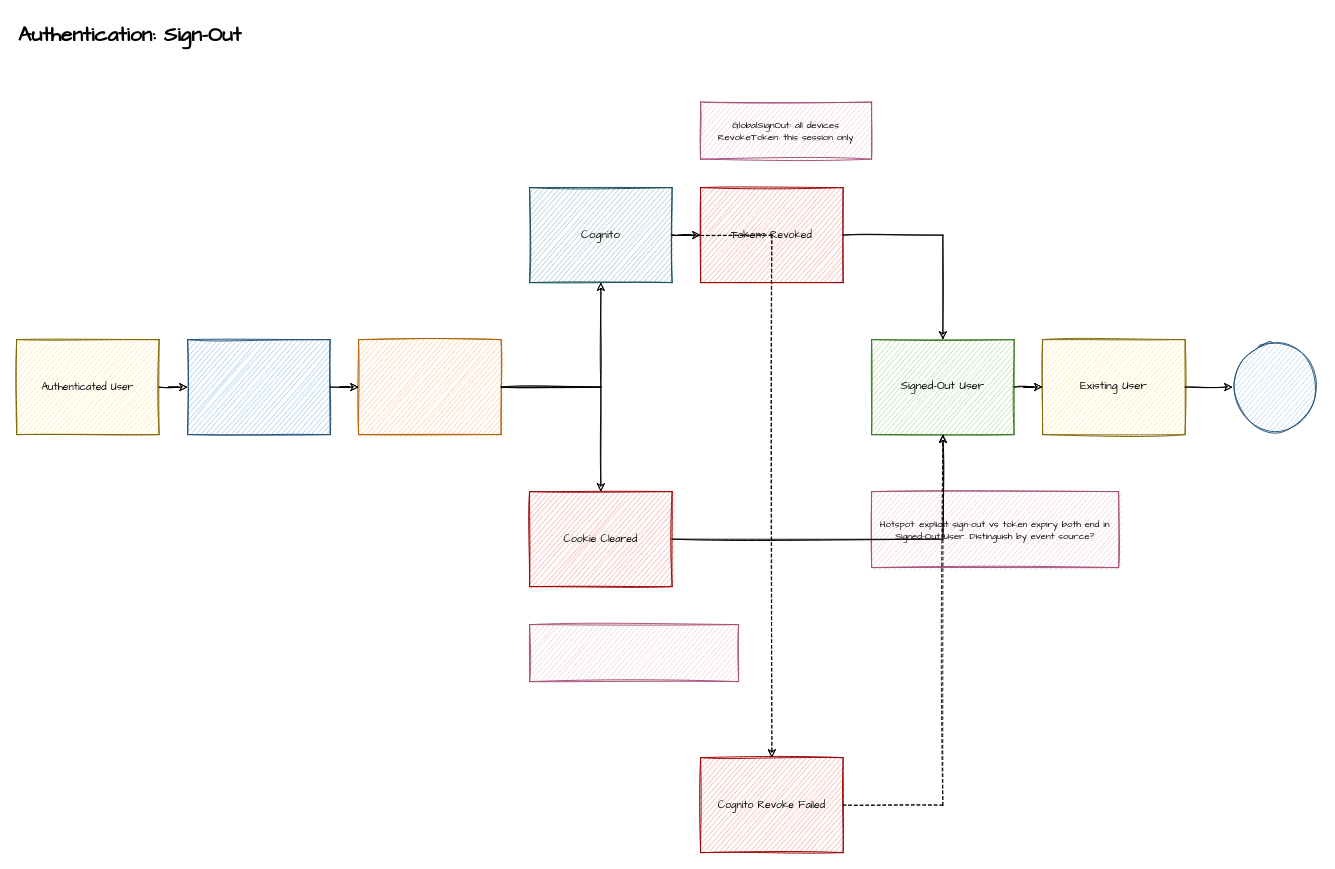
Image size: 1335x869. Some labels were removed from this diagram. The shapes that lost their labels are listed below. From the top down, each one's centre as x and y in pixels, then its label:
At (x=258, y=387): "Sign Out".
At (x=429, y=387): "Authentication".
At (x=1275, y=386): "To Sign-In Page".
At (x=634, y=653): "Local cookie clear always succeeds. Cognito revoke is best-effort.".
